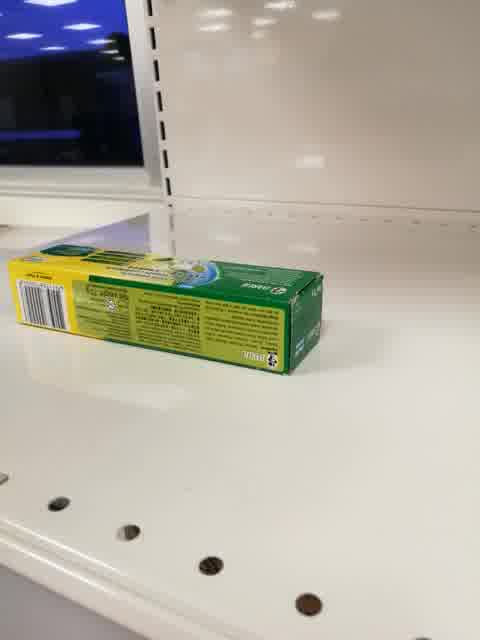toothpaste: (11, 244, 323, 376)
